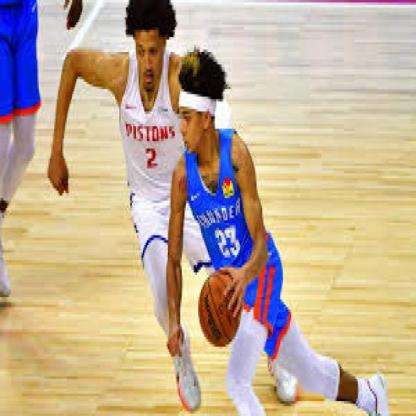basketball: (197, 270, 242, 349)
